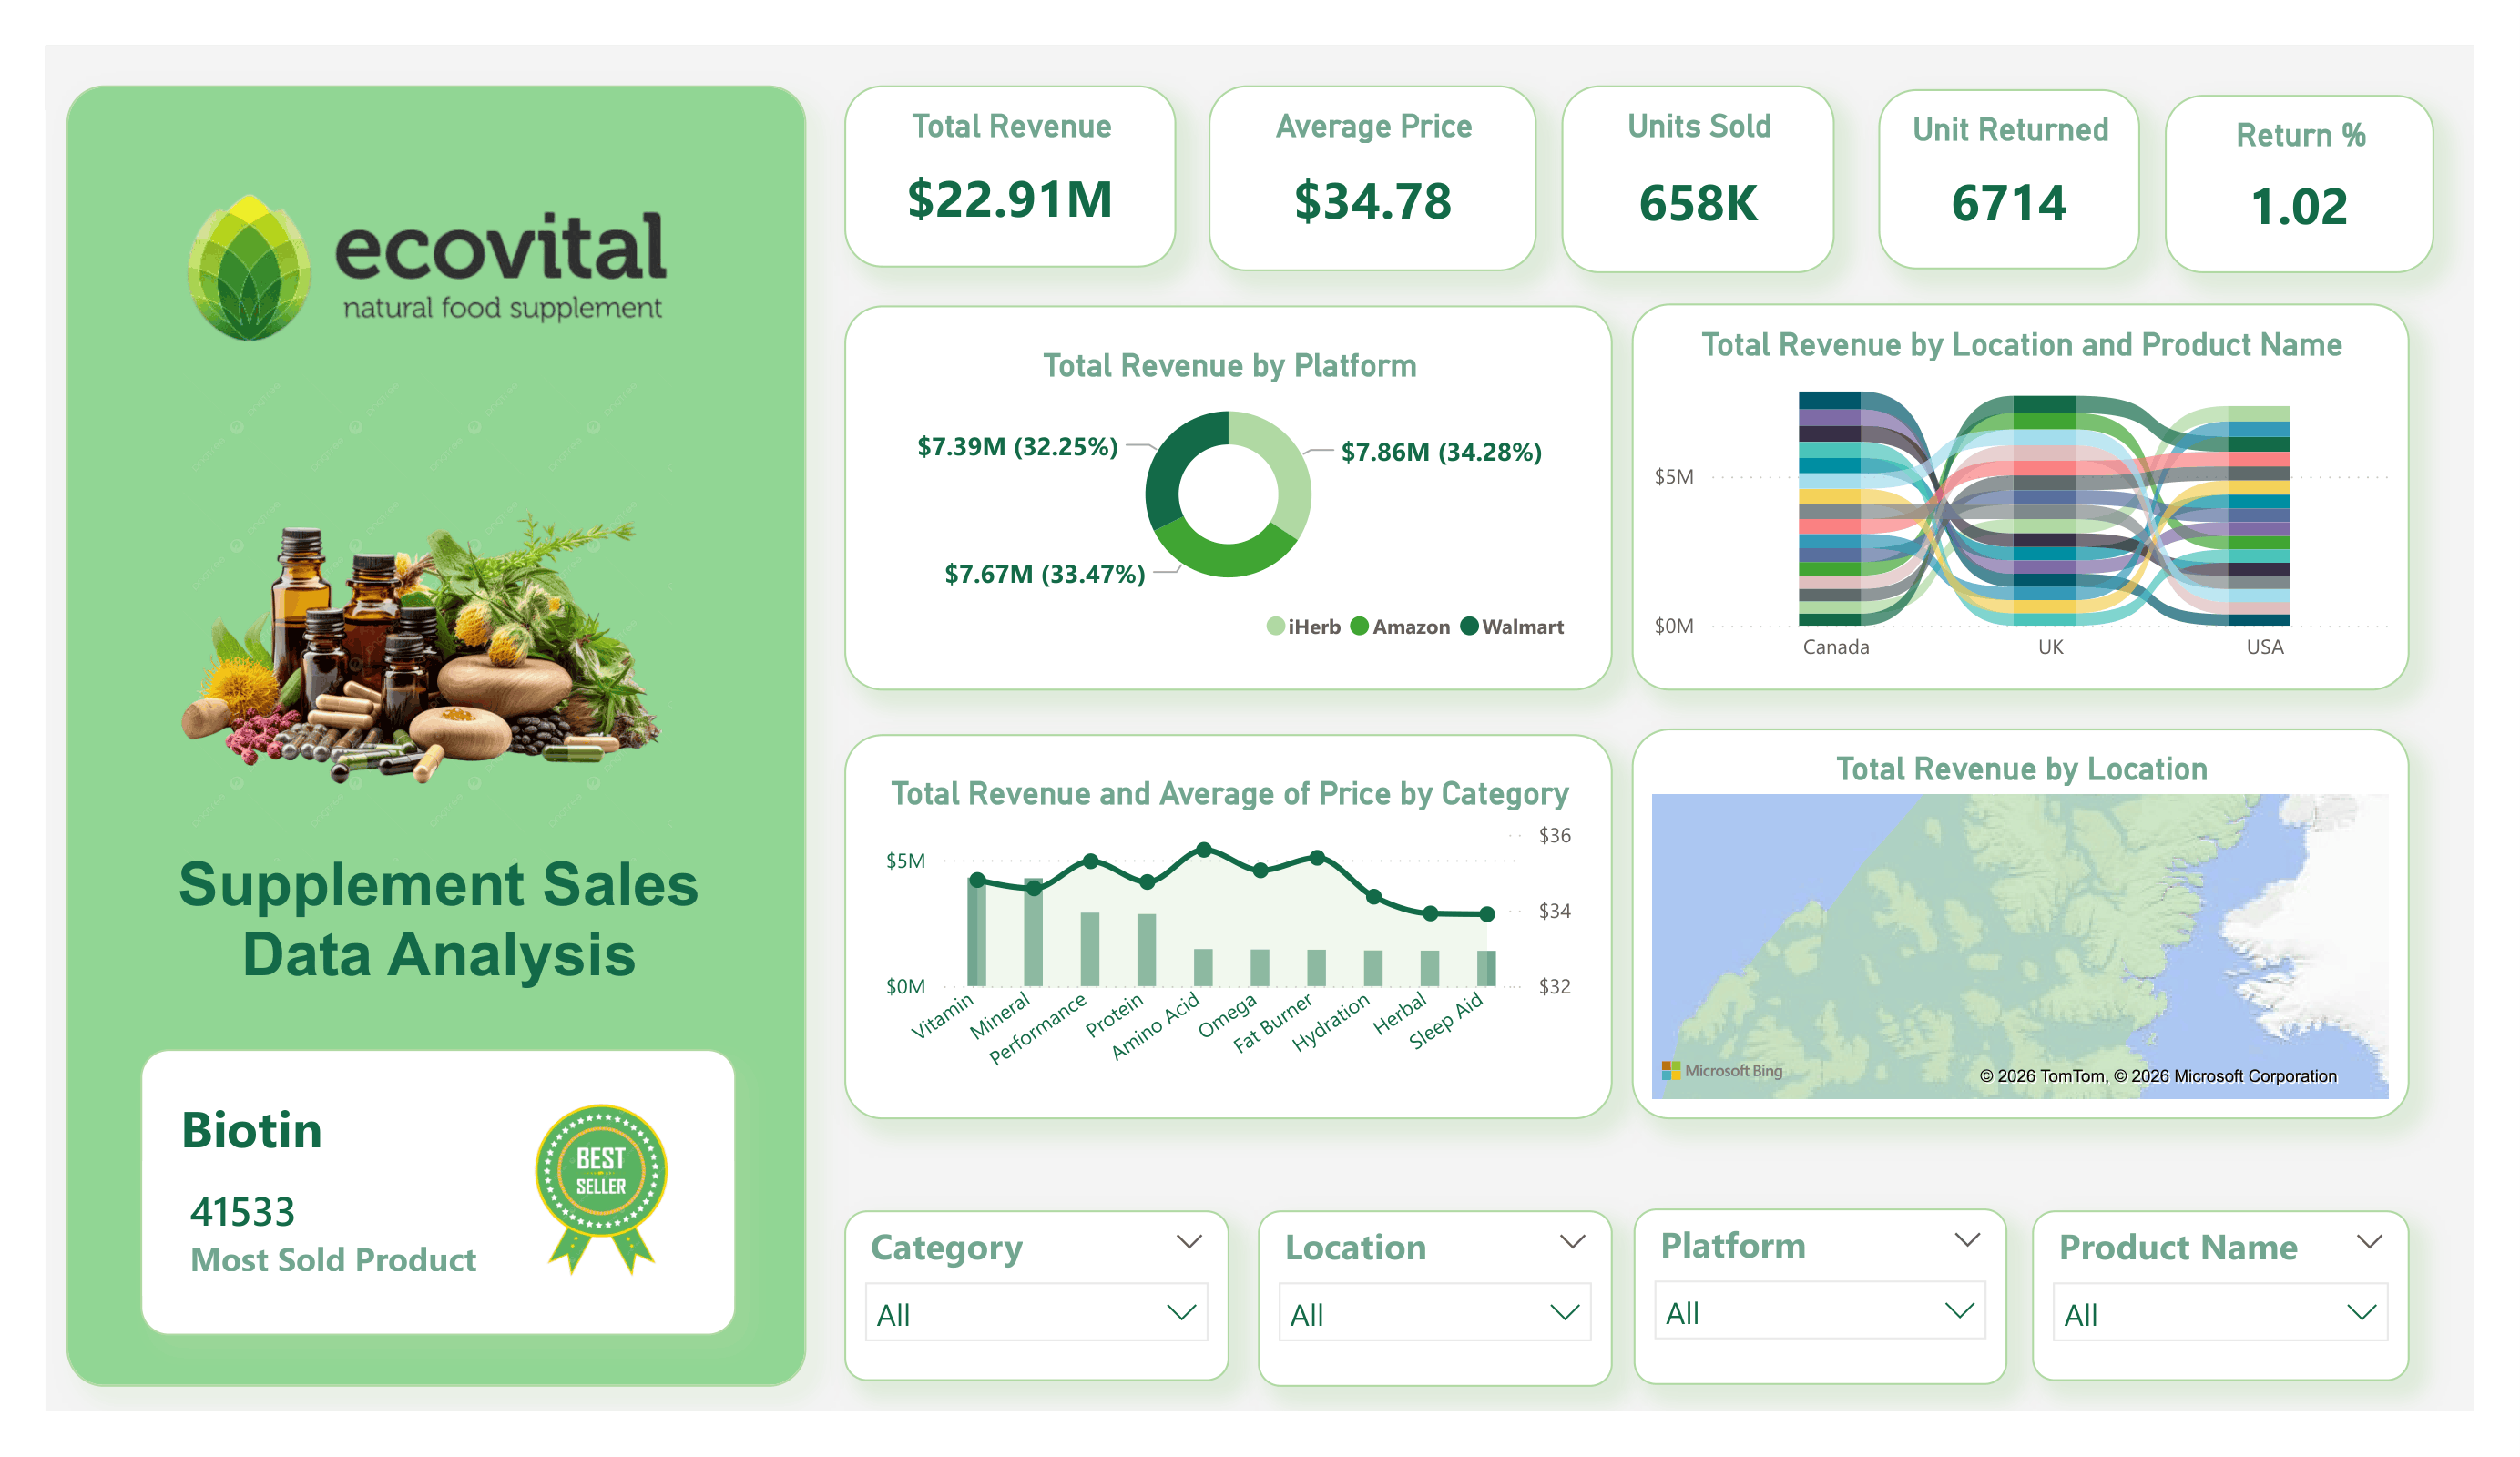

The page's visual inventory and layout, read from the dashboard file:
{"tool":"powerbi","page":{"name":"Page 1","canvas":[1280,720],"ordinal":0},"visuals":[{"type":"shape","box":[11.4,21.4,390,685.7],"z":0},{"type":"cardVisual","title":"Total Revenue","fields":{"Data":["Sum(Supplement_Sales_Weekly_Expanded.Revenue)"]},"box":[421.4,21.4,174.3,95.7],"z":1000},{"type":"cardVisual","title":"Average Price","fields":{"Data":["Avg(Supplement_Sales_Weekly_Expanded.Price)"]},"box":[612.9,21.4,172.9,97.1],"z":2000},{"type":"cardVisual","title":"Unit Returned","fields":{"Data":["Sum(Supplement_Sales_Weekly_Expanded.Units Returned)"]},"box":[965.6,23.3,138.9,94.4],"z":3000},{"type":"cardVisual","title":"Units Sold","fields":{"Data":["Sum(Supplement_Sales_Weekly_Expanded.Units Sold)"]},"box":[798.6,21.4,144.3,98.6],"z":4000},{"type":"cardVisual","title":"Return %","fields":{"Data":["Supplement_Sales_Weekly_Expanded.Return %"]},"box":[1116.7,25.6,142.2,94.4],"z":5000},{"type":"slicer","fields":{"Values":["Supplement_Sales_Weekly_Expanded.Category"]},"box":[421.4,614.3,202.9,90],"z":6000},{"type":"slicer","fields":{"Values":["Supplement_Sales_Weekly_Expanded.Location"]},"box":[638.6,614.3,187.1,92.9],"z":7000},{"type":"slicer","fields":{"Values":["Supplement_Sales_Weekly_Expanded.Platform"]},"box":[837.1,612.9,197.1,92.9],"z":8000},{"type":"slicer","fields":{"Values":["Supplement_Sales_Weekly_Expanded.Product Name"]},"box":[1047.1,614.3,198.6,90],"z":9000},{"type":"lineStackedColumnComboChart","fields":{"Y":["Sum(Supplement_Sales_Weekly_Expanded.Revenue)"],"Y2":["Avg(Supplement_Sales_Weekly_Expanded.Price)"],"Category":["Supplement_Sales_Weekly_Expanded.Category"]},"box":[421.4,362.9,404.3,202.9],"z":10000},{"type":"donutChart","fields":{"Y":["Sum(Supplement_Sales_Weekly_Expanded.Revenue)"],"Category":["Supplement_Sales_Weekly_Expanded.Platform"]},"box":[421.4,137.1,404.3,202.9],"z":11000},{"type":"filledMap","title":"Total Revenue by Location","fields":{"Category":["Supplement_Sales_Weekly_Expanded.Location"],"Series":["Supplement_Sales_Weekly_Expanded.Location"]},"box":[835.7,360,410,205.7],"z":12000},{"type":"ribbonChart","fields":{"Category":["Supplement_Sales_Weekly_Expanded.Location"],"Y":["Sum(Supplement_Sales_Weekly_Expanded.Revenue)"],"Series":["Supplement_Sales_Weekly_Expanded.Product Name"]},"box":[835.7,135.7,410,204.3],"z":13000},{"type":"cardVisual","title":"Top Selling Product","fields":{"Rows":["Supplement_Sales_Weekly_Expanded.Product Name"],"Data":["Sum(Supplement_Sales_Weekly_Expanded.Units Sold)"]},"box":[50,528.6,314.3,151.4],"z":14000},{"type":"image","box":[50,150,300,300],"z":15000},{"type":"textbox","box":[35.7,418.6,342.9,90],"z":16000},{"type":"image","box":[213.1,528.8,160,148.1],"z":17000},{"type":"image","box":[0,52.9,401.4,128.6],"z":18000}]}

Visuals, with their boxes on the page's 1280x720 design canvas (x1, y1, x2, y2). These are canvas units, not pixel positions in the 2520x1457 screenshot, which may show the page scaled, cropped or inside an application window:
shape: <box>11,21,401,707</box>
"Total Revenue" cardVisual: <box>421,21,596,117</box>
"Average Price" cardVisual: <box>613,21,786,118</box>
"Unit Returned" cardVisual: <box>966,23,1104,118</box>
"Units Sold" cardVisual: <box>799,21,943,120</box>
"Return %" cardVisual: <box>1117,26,1259,120</box>
slicer - Supplement_Sales_Weekly_Expanded.Category: <box>421,614,624,704</box>
slicer - Supplement_Sales_Weekly_Expanded.Location: <box>639,614,826,707</box>
slicer - Supplement_Sales_Weekly_Expanded.Platform: <box>837,613,1034,706</box>
slicer - Supplement_Sales_Weekly_Expanded.Product Name: <box>1047,614,1246,704</box>
lineStackedColumnComboChart - Sum(Supplement_Sales_Weekly_Expanded.Revenue) x Avg(Supplement_Sales_Weekly_Expanded.Price): <box>421,363,826,566</box>
donutChart - Sum(Supplement_Sales_Weekly_Expanded.Revenue) x Supplement_Sales_Weekly_Expanded.Platform: <box>421,137,826,340</box>
"Total Revenue by Location" filledMap: <box>836,360,1246,566</box>
ribbonChart - Supplement_Sales_Weekly_Expanded.Location x Sum(Supplement_Sales_Weekly_Expanded.Revenue): <box>836,136,1246,340</box>
"Top Selling Product" cardVisual: <box>50,529,364,680</box>
image: <box>50,150,350,450</box>
textbox: <box>36,419,379,509</box>
image: <box>213,529,373,677</box>
image: <box>0,53,401,182</box>
